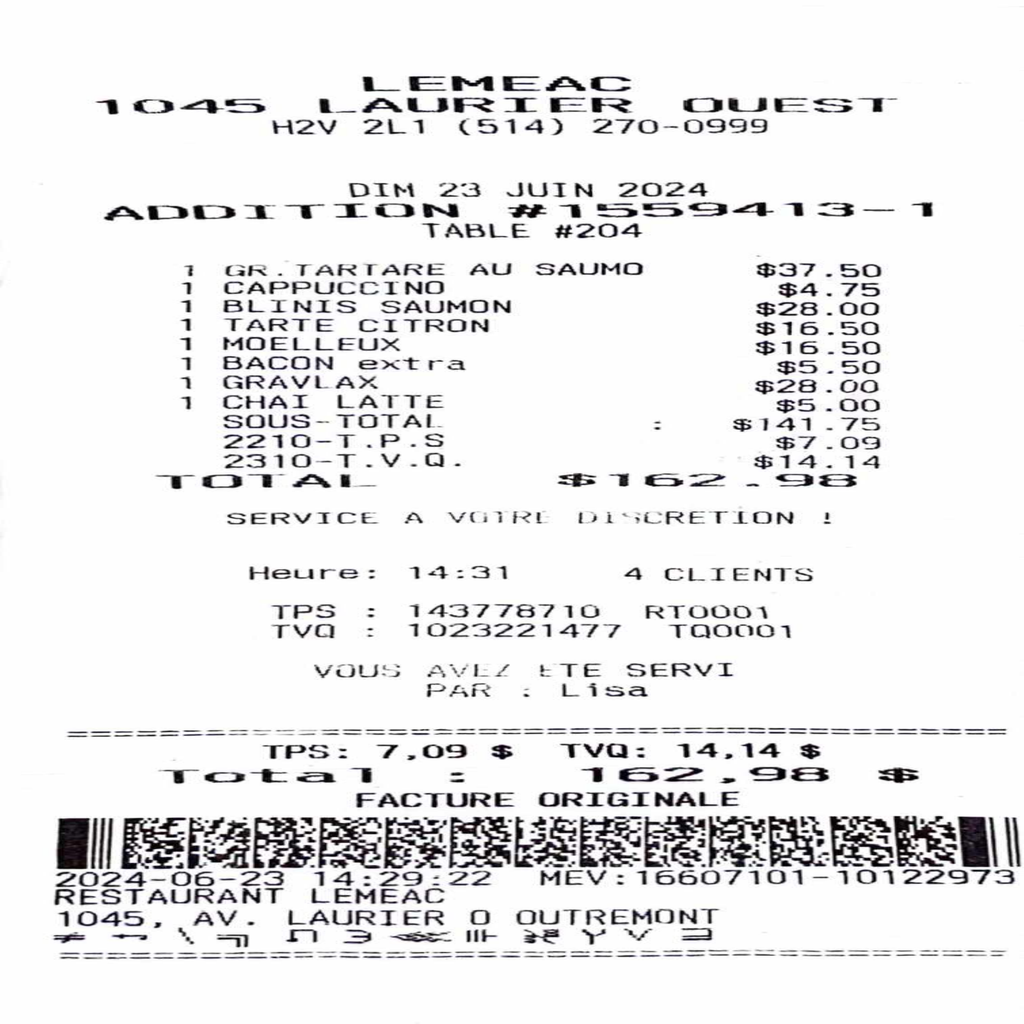recipt: (0, 2, 1024, 1024)
